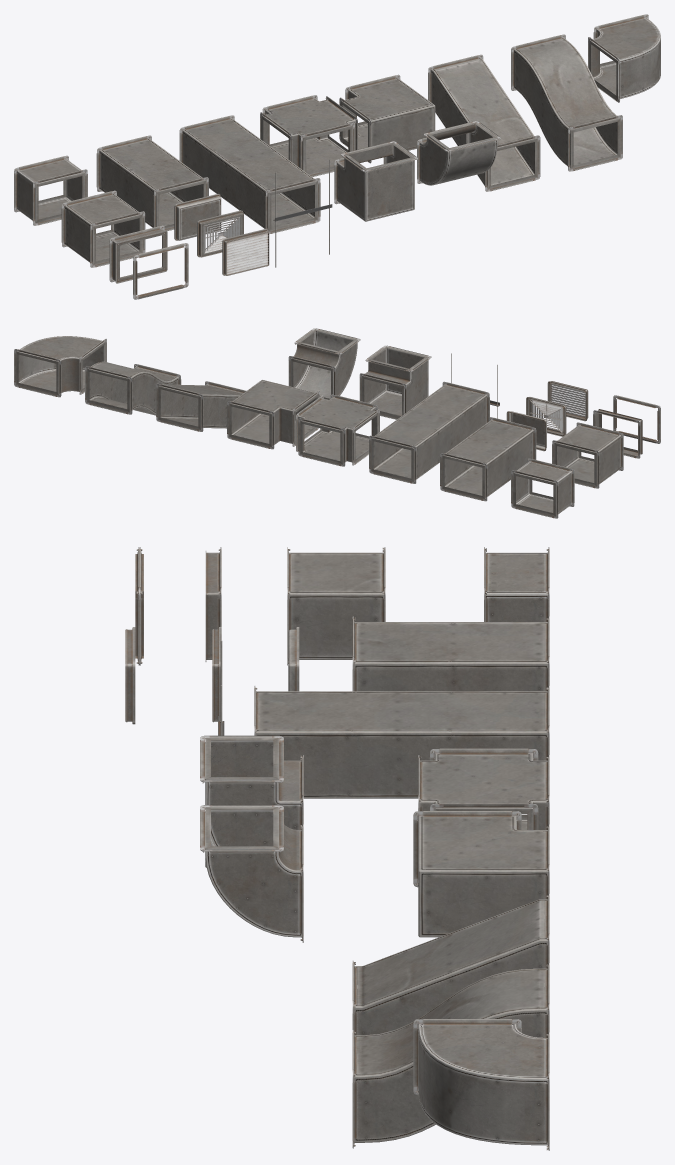
Rendered from modular_airduct_rectangular_01.fbx.
3 renders of one model, top to bottom at view 1: azimuth 30°, elevation 25°; view 2: azimuth 150°, elevation 25°; view 3: azimuth 270°, elevation 25°, orthographic. The views are drawn at different scales.
Visible parts, largest first — view 1: modular_airduct_rectangular_01_tripple_01.001, modular_airduct_rectangular_01_transition_double_02.001, modular_airduct_rectangular_01_transition_double_01.001, modular_airduct_rectangular_01_double_01.001, modular_airduct_rectangular_01_splitter_01.001, modular_airduct_rectangular_01_corner_01.001, modular_airduct_rectangular_01_corner_02.001, modular_airduct_rectangular_01_bend_02.001, modular_airduct_rectangular_01_single_01.001, modular_airduct_rectangular_01_bend_01.001, modular_airduct_rectangular_01_half_01.001, modular_airduct_rectangular_01_vent_01.001 (+4 smaller); view 2: modular_airduct_rectangular_01_tripple_01.001, modular_airduct_rectangular_01_double_01.001, modular_airduct_rectangular_01_splitter_01.001, modular_airduct_rectangular_01_corner_02.001, modular_airduct_rectangular_01_bend_02.001, modular_airduct_rectangular_01_corner_01.001, modular_airduct_rectangular_01_bend_01.001, modular_airduct_rectangular_01_transition_double_02.001, modular_airduct_rectangular_01_single_01.001, modular_airduct_rectangular_01_transition_double_01.001, modular_airduct_rectangular_01_half_01.001, modular_airduct_rectangular_01_vent_01.001 (+4 smaller); view 3: modular_airduct_rectangular_01_tripple_01.001, modular_airduct_rectangular_01_bend_02.001, modular_airduct_rectangular_01_corner_02.001, modular_airduct_rectangular_01_double_01.001, modular_airduct_rectangular_01_transition_double_01.001, modular_airduct_rectangular_01_transition_double_02.001, modular_airduct_rectangular_01_bend_01.001, modular_airduct_rectangular_01_single_01.001, modular_airduct_rectangular_01_splitter_01.001, modular_airduct_rectangular_01_corner_01.001, modular_airduct_rectangular_01_half_01.001, modular_airduct_rectangular_01_connector_01.001 (+3 smaller).
Part boxes in pixels (x1,y1,x2,y2): modular_airduct_rectangular_01_tripple_01.001: [179, 115, 320, 233]; modular_airduct_rectangular_01_transition_double_02.001: [511, 34, 622, 171]; modular_airduct_rectangular_01_transition_double_01.001: [428, 54, 540, 191]; modular_airduct_rectangular_01_double_01.001: [96, 135, 208, 231]; modular_airduct_rectangular_01_splitter_01.001: [260, 95, 357, 176]; modular_airduct_rectangular_01_corner_01.001: [334, 141, 417, 221]; modular_airduct_rectangular_01_corner_02.001: [339, 74, 435, 163]; modular_airduct_rectangular_01_bend_02.001: [588, 14, 660, 102]; modular_airduct_rectangular_01_single_01.001: [61, 190, 145, 267]; modular_airduct_rectangular_01_bend_01.001: [417, 121, 500, 185]; modular_airduct_rectangular_01_half_01.001: [14, 155, 87, 225]; modular_airduct_rectangular_01_vent_01.001: [222, 229, 269, 275]; modular_airduct_rectangular_01_tripple_01.001: [369, 381, 489, 483]; modular_airduct_rectangular_01_double_01.001: [440, 417, 536, 501]; modular_airduct_rectangular_01_splitter_01.001: [296, 394, 379, 466]; modular_airduct_rectangular_01_corner_02.001: [227, 380, 319, 449]; modular_airduct_rectangular_01_bend_02.001: [14, 336, 106, 397]; modular_airduct_rectangular_01_corner_01.001: [359, 345, 431, 419]; modular_airduct_rectangular_01_bend_01.001: [288, 328, 360, 399]; modular_airduct_rectangular_01_transition_double_02.001: [85, 361, 181, 415]; modular_airduct_rectangular_01_single_01.001: [552, 422, 623, 488]; modular_airduct_rectangular_01_transition_double_01.001: [156, 381, 246, 431]; modular_airduct_rectangular_01_half_01.001: [511, 458, 574, 518]; modular_airduct_rectangular_01_vent_01.001: [547, 381, 588, 421]; modular_airduct_rectangular_01_tripple_01.001: [254, 686, 549, 798]; modular_airduct_rectangular_01_bend_02.001: [413, 1019, 549, 1150]; modular_airduct_rectangular_01_corner_02.001: [413, 811, 549, 937]; modular_airduct_rectangular_01_double_01.001: [352, 616, 549, 691]; modular_airduct_rectangular_01_transition_double_01.001: [352, 894, 549, 1035]; modular_airduct_rectangular_01_transition_double_02.001: [352, 963, 549, 1148]; modular_airduct_rectangular_01_bend_01.001: [200, 805, 303, 942]; modular_airduct_rectangular_01_single_01.001: [287, 547, 385, 665]; modular_airduct_rectangular_01_splitter_01.001: [418, 748, 549, 829]; modular_airduct_rectangular_01_corner_01.001: [200, 735, 303, 867]; modular_airduct_rectangular_01_half_01.001: [484, 547, 549, 621]; modular_airduct_rectangular_01_connector_01.001: [205, 547, 221, 661].
Bounding box in the file's own units: 766 × 126 × 259.
